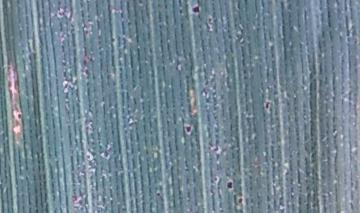tarspot: (187, 1, 203, 17), (262, 97, 274, 117), (181, 122, 195, 139), (225, 177, 235, 194), (12, 109, 24, 122), (234, 194, 246, 207), (154, 188, 164, 200)
